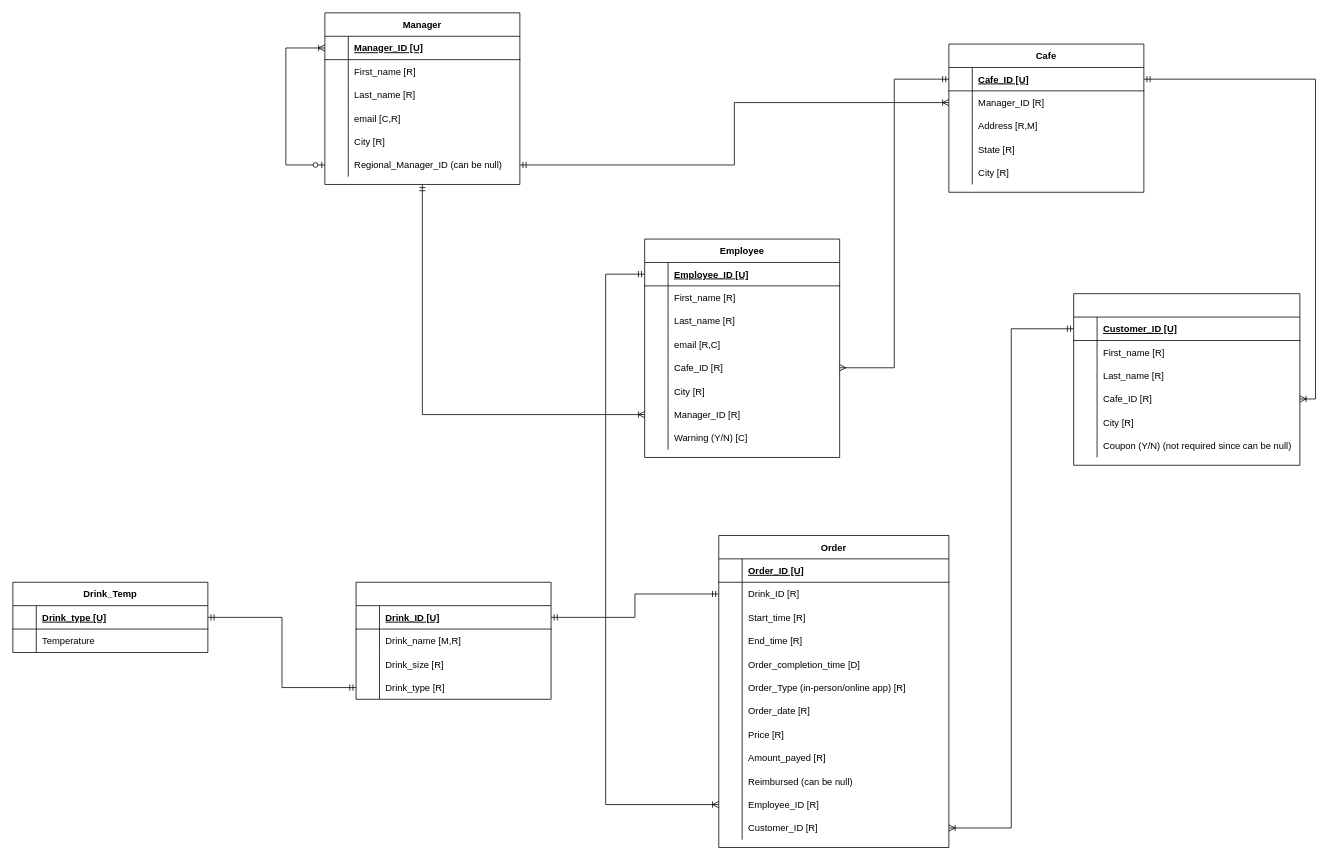
The diagram is 1328 pixels wide and 860 high, and some of its shapes have lost their labels. The box of each missing label's shape, as (x1, y1, x2, y2) in pixels:
Customers: (1073, 293, 1300, 465)
Drink_Details: (355, 581, 551, 699)
